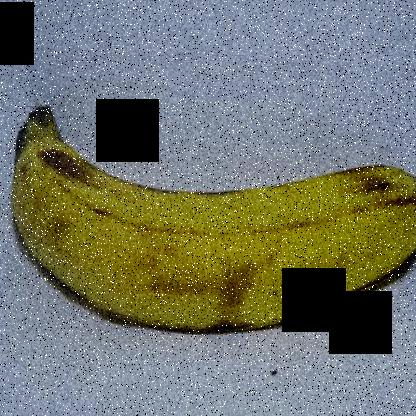ripe: (8, 80, 416, 340)
